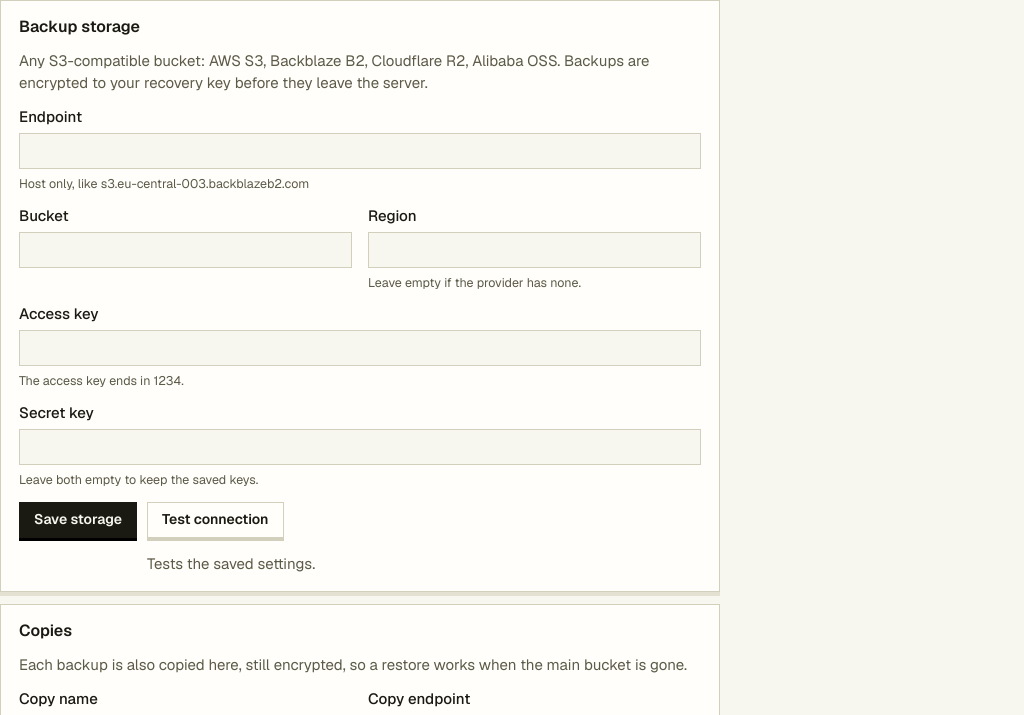
Test: Storage test connection › tests what is saved and says Connected.
Click the button "Test connection": {"x": 215, "y": 520} [147, 502, 284, 538]
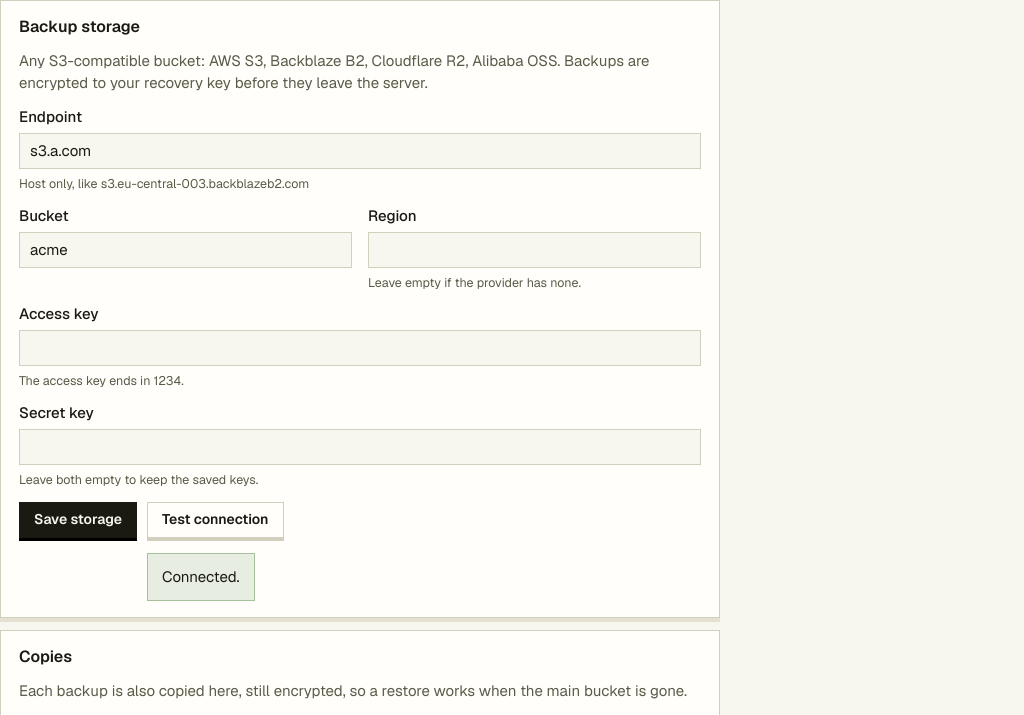
Expected: the text "Connected." is shown, [162, 566, 240, 588]
